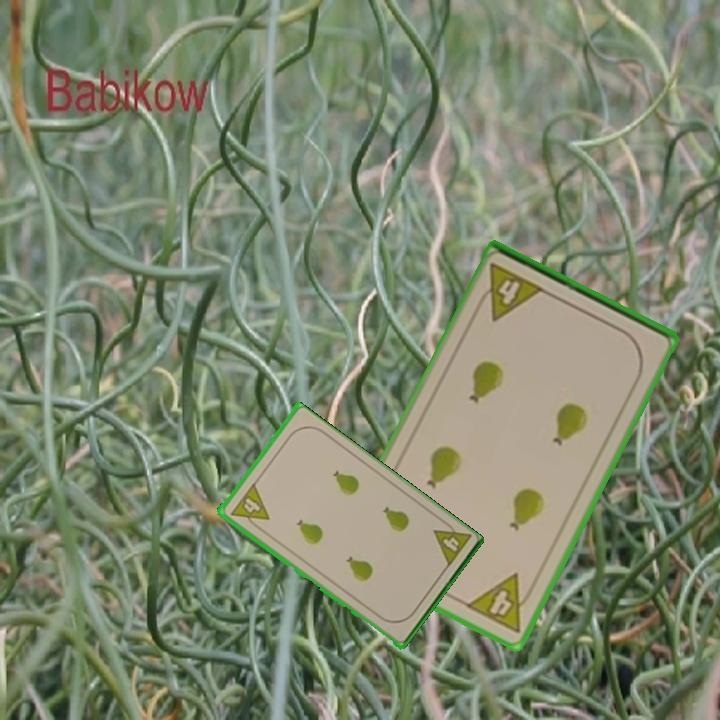4p: (462, 570, 540, 636), (472, 259, 547, 324), (429, 515, 474, 571), (226, 480, 272, 533)
